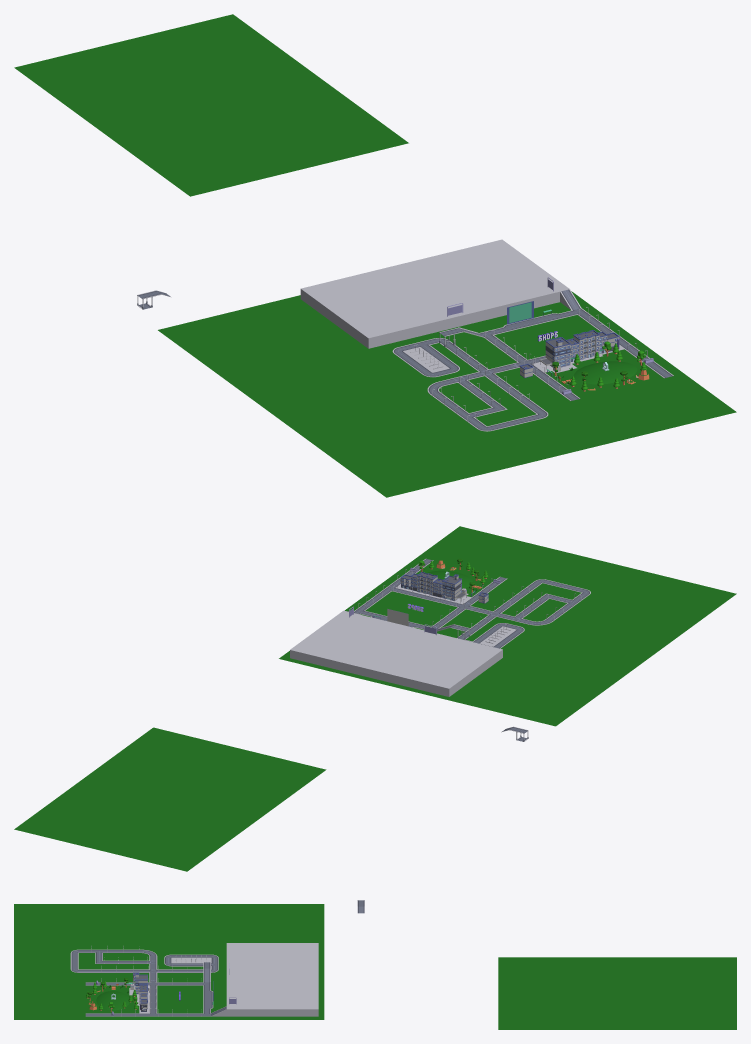
The model's file is map.glb.
3 views of the same model, one above another, from view 1: azimuth 30°, elevation 25°; view 2: azimuth 150°, elevation 25°; view 3: azimuth 270°, elevation 25° (orthographic). The views are drawn at different scales.
Visible parts, largest first — view 1: ground_grass (×2), tile_high, sphere; view 2: ground_grass (×2), tile_high; view 3: ground_grass (×2), tile_high, road_straight (×3), sphere.
Part boxes in pixels (left/top/right/bottom): ground_grass (×2): left=14, top=14, right=736, bottom=497; tile_high: left=300, top=239, right=569, bottom=348; sphere: left=573, top=361, right=637, bottom=384; ground_grass (×2): left=14, top=526, right=736, bottom=871; tile_high: left=290, top=610, right=502, bottom=696; ground_grass (×2): left=14, top=904, right=736, bottom=1029; tile_high: left=226, top=943, right=318, bottom=1016; road_straight (×3): left=78, top=969, right=157, bottom=1016; sphere: left=96, top=991, right=129, bottom=1010.
Bounding box in the file's own units: 38.2 × 3.94 × 92.85.
